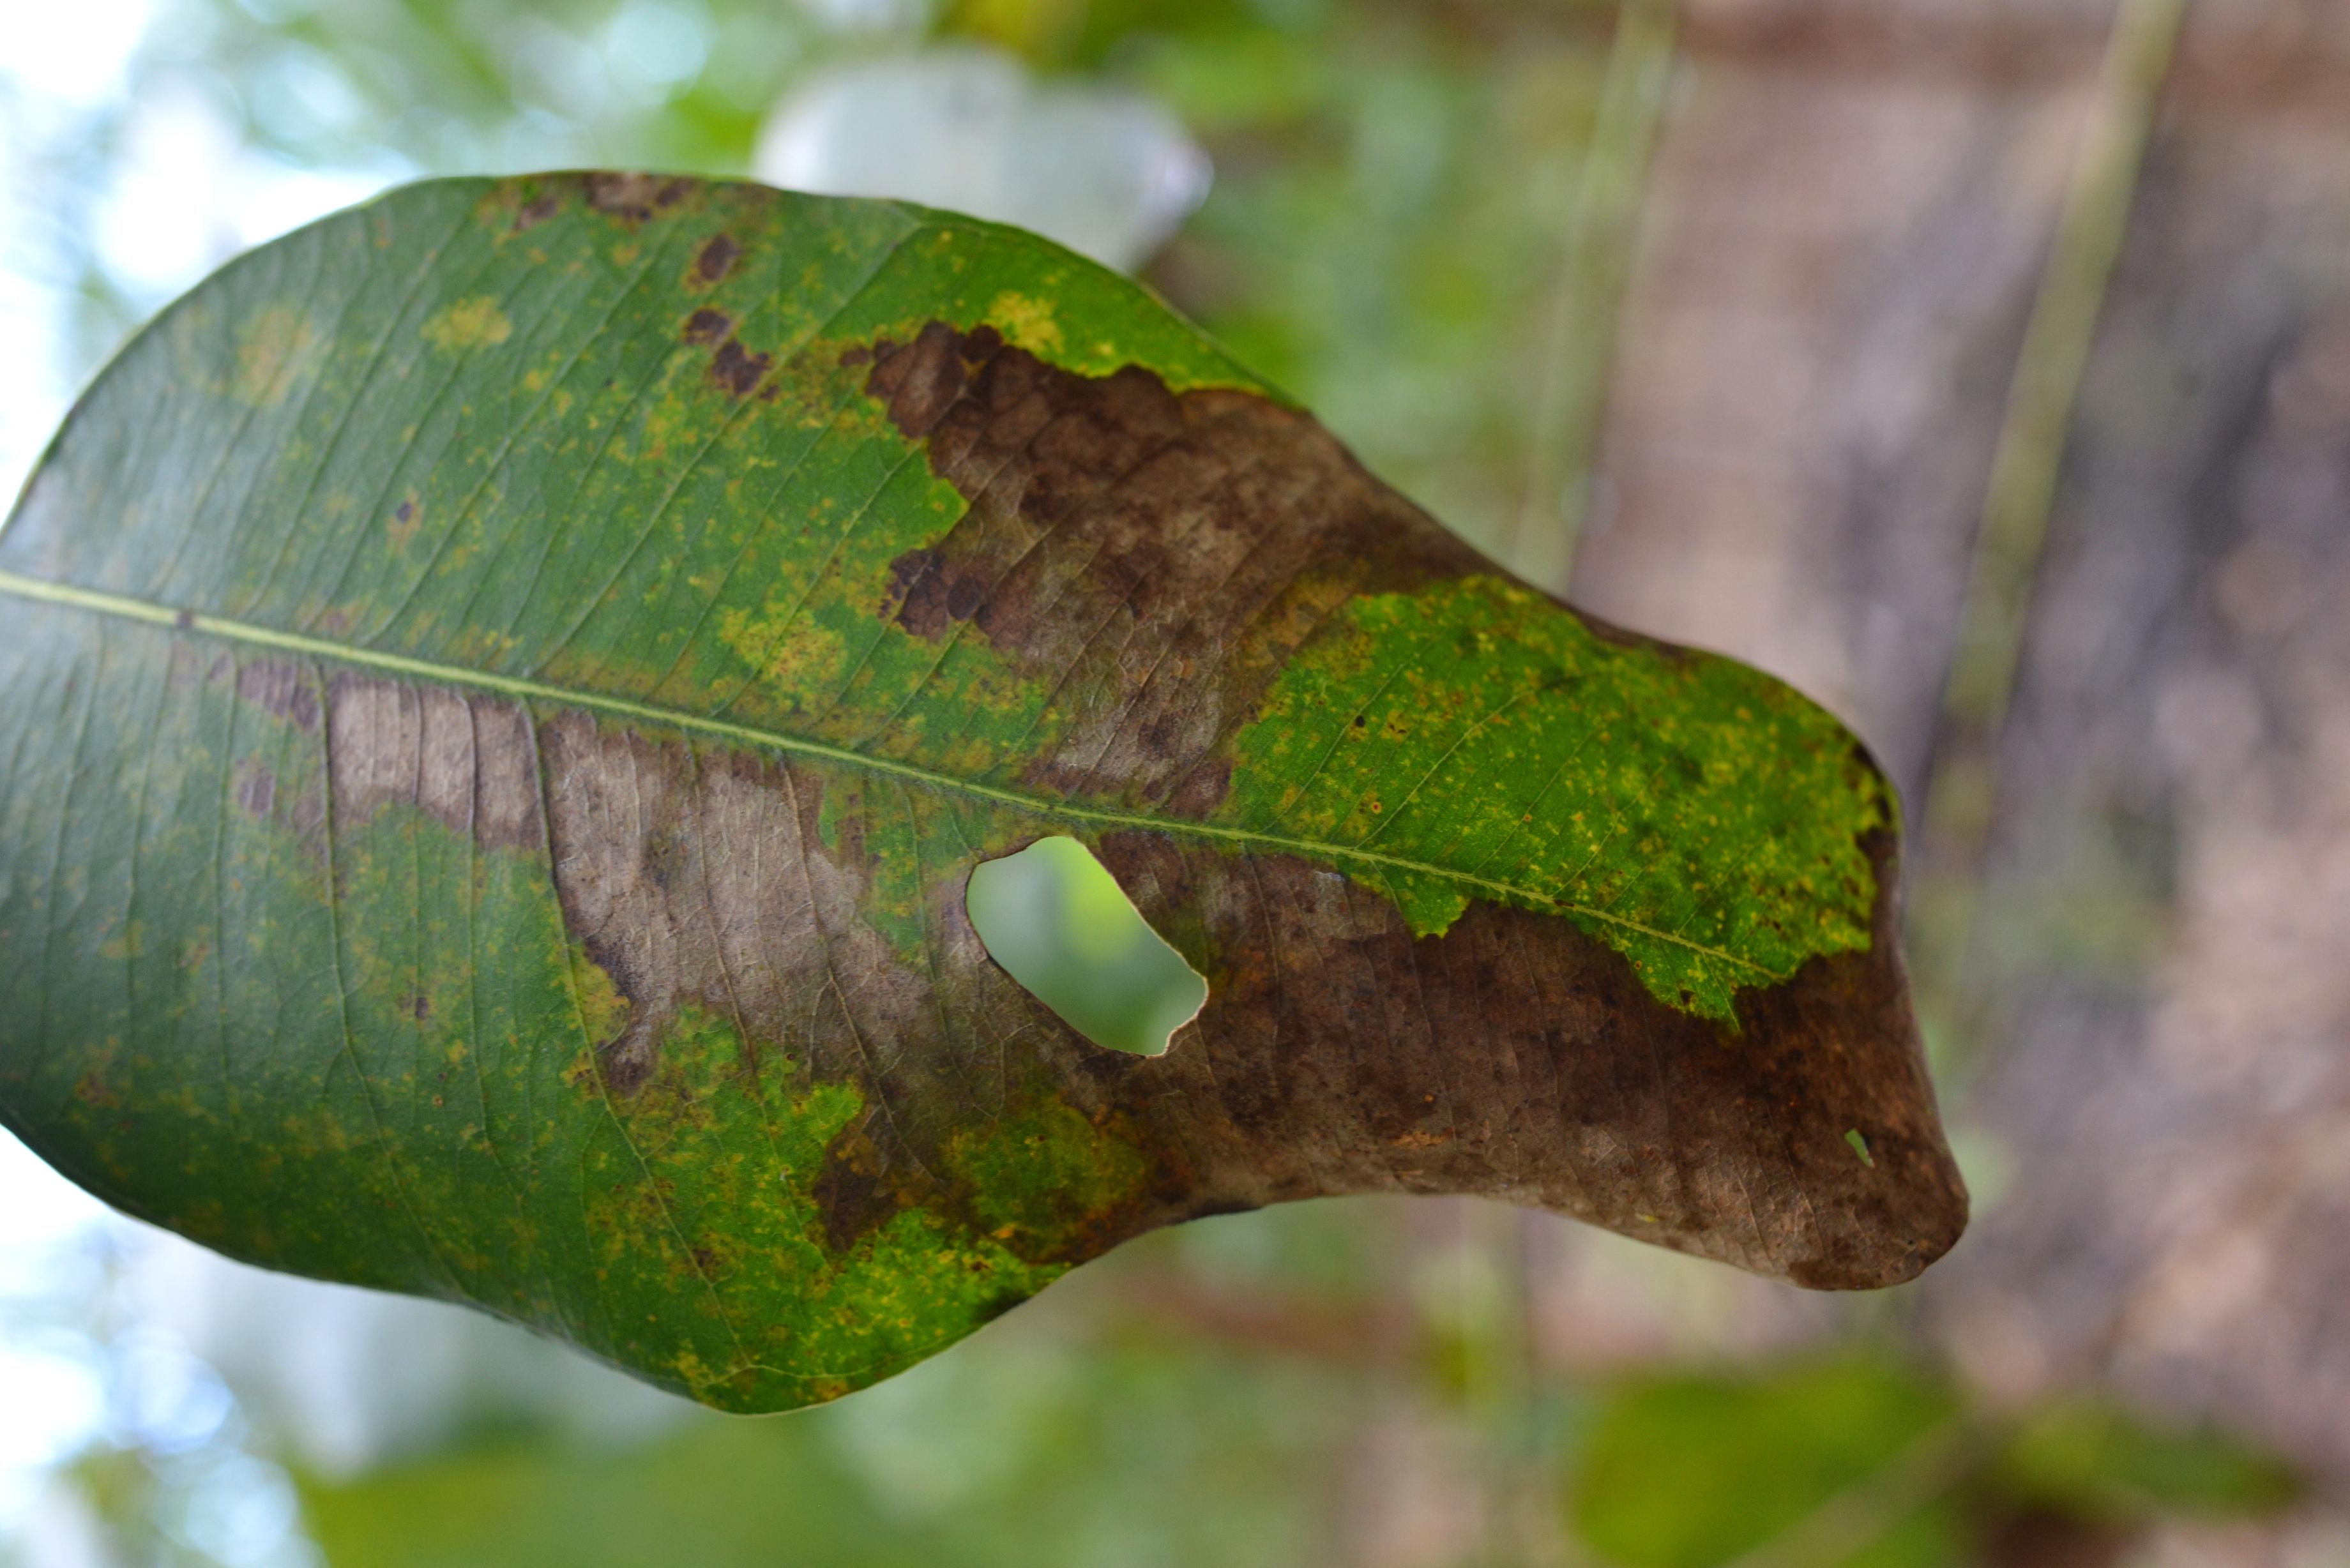Cylindrocladium: (0, 161, 1969, 1421)
